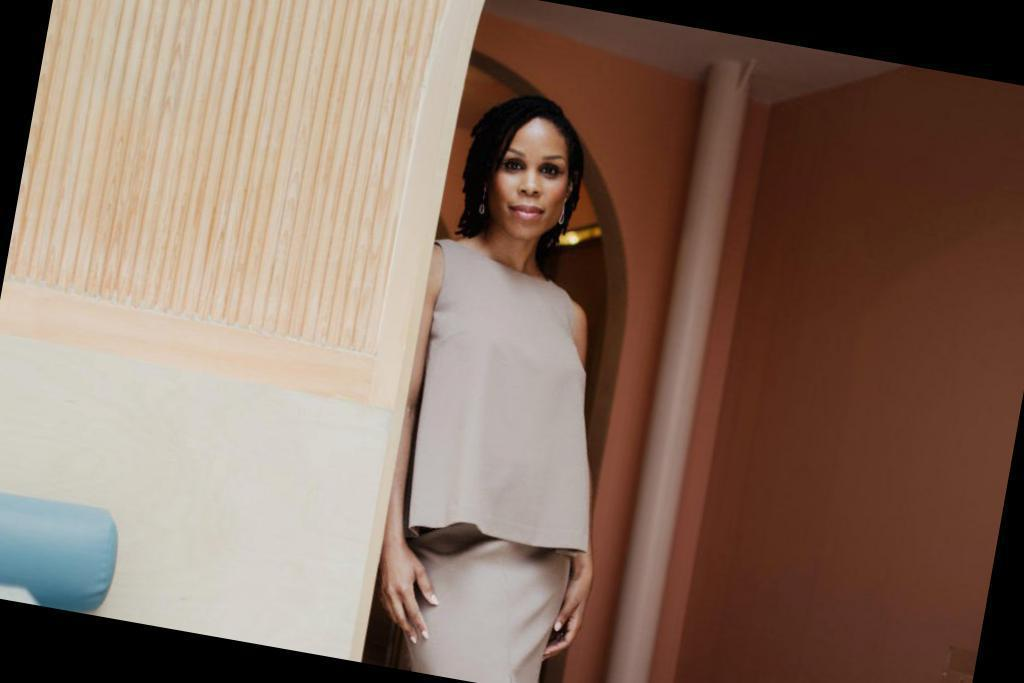Sober: (486, 120, 570, 235)
